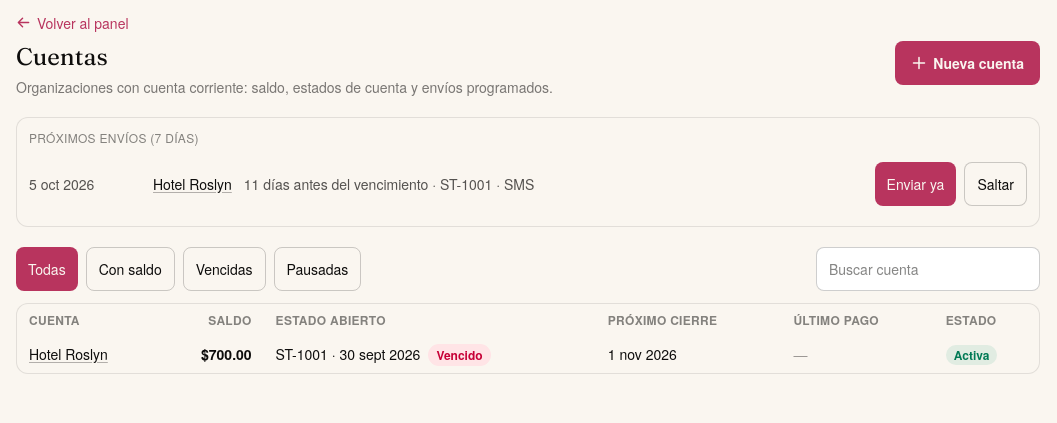
Test case: AccountsView › Enviar ya › shows the failure reason when the 200 carries a failed send
Click the button "Enviar ya".
click(915, 184)  # box [874,162,956,206]
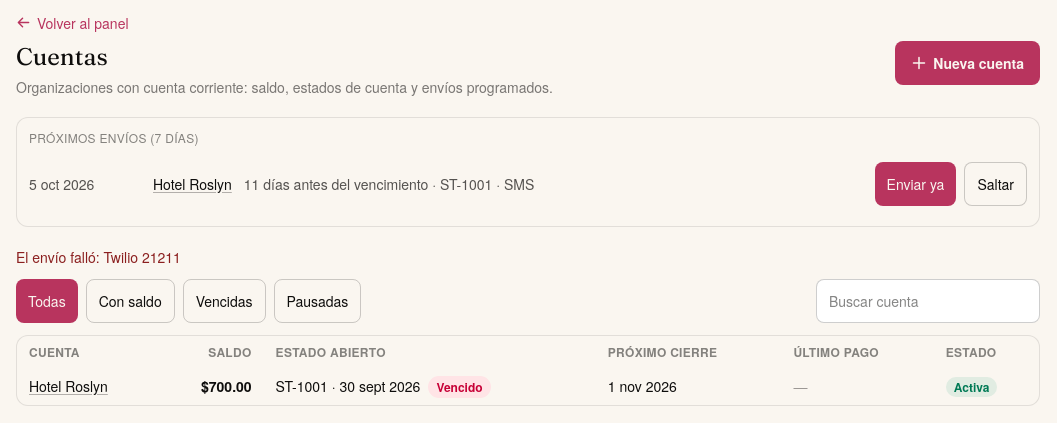
Now the text "El envío falló: Twilio 21211" is shown, box [16,246,181,266]
